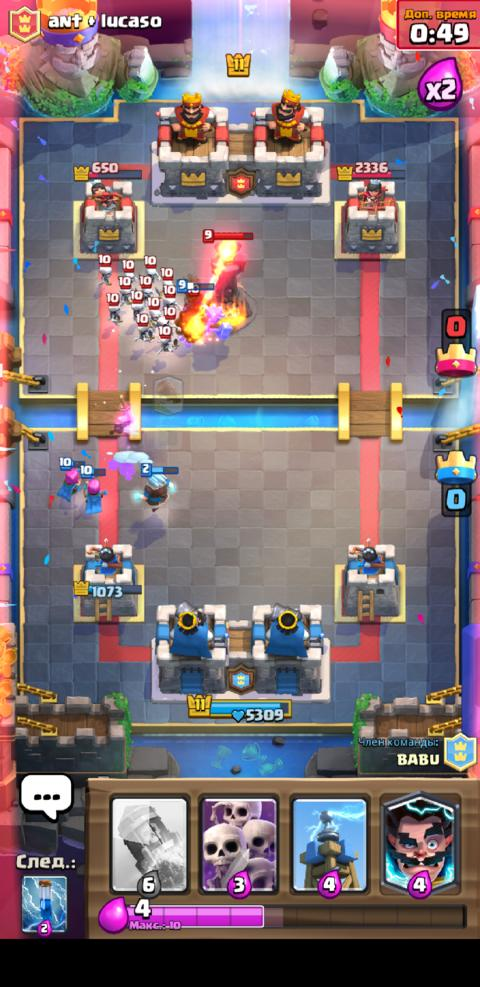ally_archer: (79, 463, 108, 513), (55, 456, 83, 503)
ally_hog_rider: (177, 278, 233, 345)
ally_ice_wizard: (132, 462, 179, 512)
enemy_inferno_tower: (199, 228, 258, 335)
enemy_skeleton: (153, 324, 179, 357), (133, 312, 154, 344), (105, 291, 122, 327), (95, 252, 112, 287), (117, 274, 133, 306), (155, 305, 175, 327), (120, 257, 137, 282), (161, 283, 176, 305), (142, 253, 157, 275), (138, 274, 153, 295), (159, 265, 174, 284), (145, 296, 159, 316)
